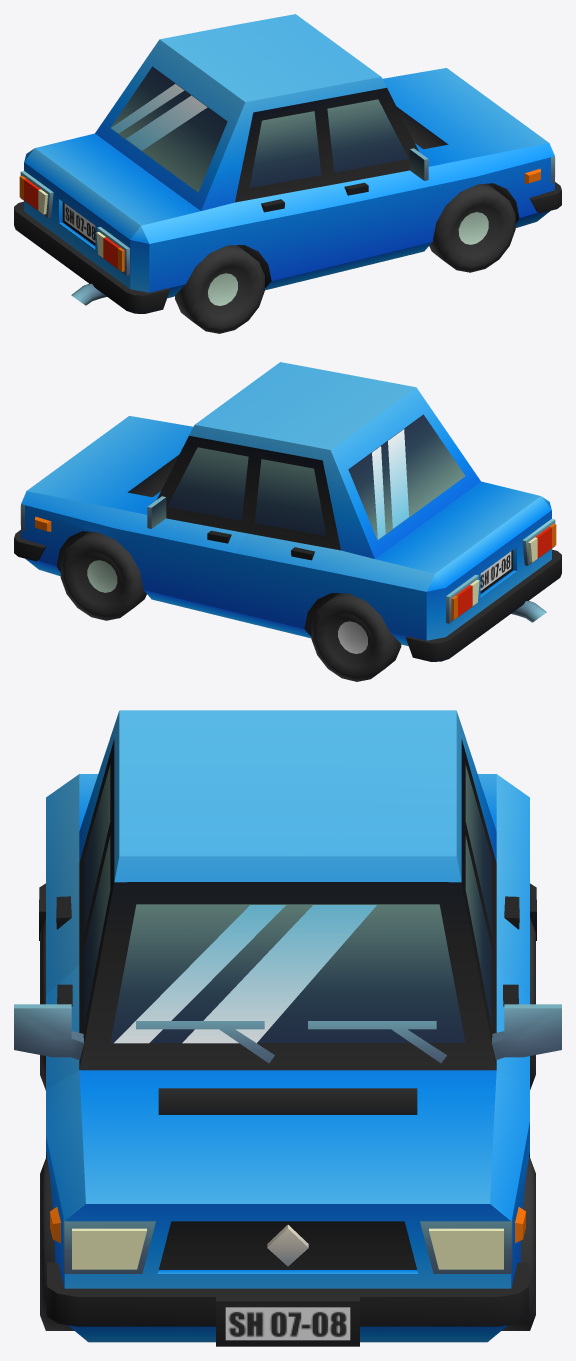
The model's file is Small-Car-2-Tile.fbx.
3 renders of one model, top to bottom at view 1: azimuth 30°, elevation 25°; view 2: azimuth 150°, elevation 25°; view 3: azimuth 270°, elevation 25°, orthographic. The views are drawn at different scales.
Visible parts, largest first — view 1: SHTV_Model_Wheel_Sedan_BL, RightDoor, SHTV_Model_Wheel_Sedan_BL_003, SHTV_Model_Wheel_Sedan_BL_004; view 2: SHTV_Model_Wheel_Sedan_BL, LeftDoor, SHTV_Model_Wheel_Sedan_BL_006, SHTV_Model_Wheel_Sedan_BL_005; view 3: SHTV_Model_Wheel_Sedan_BL, RightDoor, LeftDoor, SHTV_Model_Wheel_Sedan_BL_005, SHTV_Model_Wheel_Sedan_BL_004.
Boxes of the visible parts, x1=… form: SHTV_Model_Wheel_Sedan_BL: x1=14, y1=14, x2=561, y2=313; RightDoor: x1=320, y1=87, x2=430, y2=274; SHTV_Model_Wheel_Sedan_BL_003: x1=175, y1=245, x2=264, y2=333; SHTV_Model_Wheel_Sedan_BL_004: x1=429, y1=183, x2=515, y2=272; SHTV_Model_Wheel_Sedan_BL: x1=14, y1=362, x2=561, y2=661; LeftDoor: x1=147, y1=435, x2=255, y2=621; SHTV_Model_Wheel_Sedan_BL_006: x1=311, y1=593, x2=401, y2=681; SHTV_Model_Wheel_Sedan_BL_005: x1=60, y1=531, x2=146, y2=620; SHTV_Model_Wheel_Sedan_BL: x1=39, y1=710, x2=536, y2=1346; RightDoor: x1=14, y1=811, x2=114, y2=1088; LeftDoor: x1=461, y1=811, x2=561, y2=1087; SHTV_Model_Wheel_Sedan_BL_005: x1=501, y1=1157, x2=535, y2=1330; SHTV_Model_Wheel_Sedan_BL_004: x1=40, y1=1158, x2=74, y2=1330.
Bounding box in the file's own units: 182 × 78.51 × 95.72.
